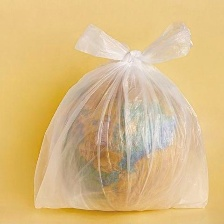plastic_bag: (27, 18, 218, 213)
